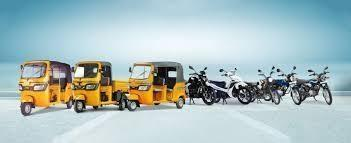keke: (20, 58, 76, 119), (125, 60, 188, 112)
